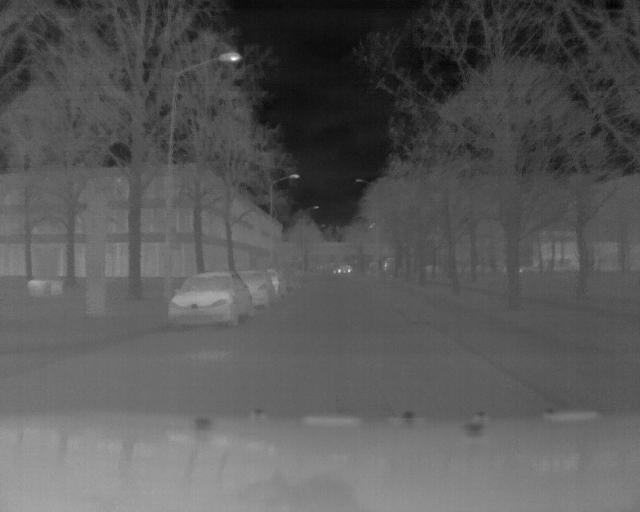car: (167, 265, 256, 328), (242, 262, 279, 311)
